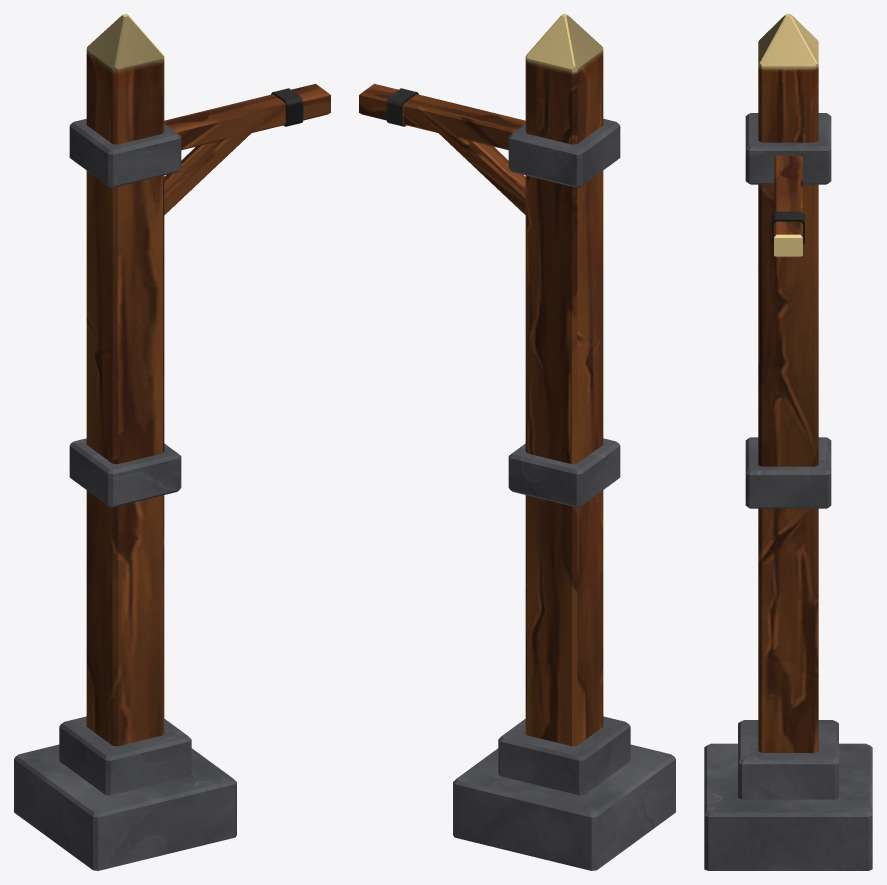
Rendered from Pole.fbx.
3 renders of one model, left to right at view 1: azimuth 30°, elevation 25°; view 2: azimuth 150°, elevation 25°; view 3: azimuth 270°, elevation 25°, orthographic.
Parts seen in each view (by area): view 1: Cube; view 2: Cube; view 3: Cube.
Boxes of the visible parts, box(x1,y1,x2,y2) form: Cube: box(14, 14, 330, 870); Cube: box(359, 14, 675, 870); Cube: box(704, 14, 872, 870).
Bounding box in the file's own units: 150 × 430 × 80.
